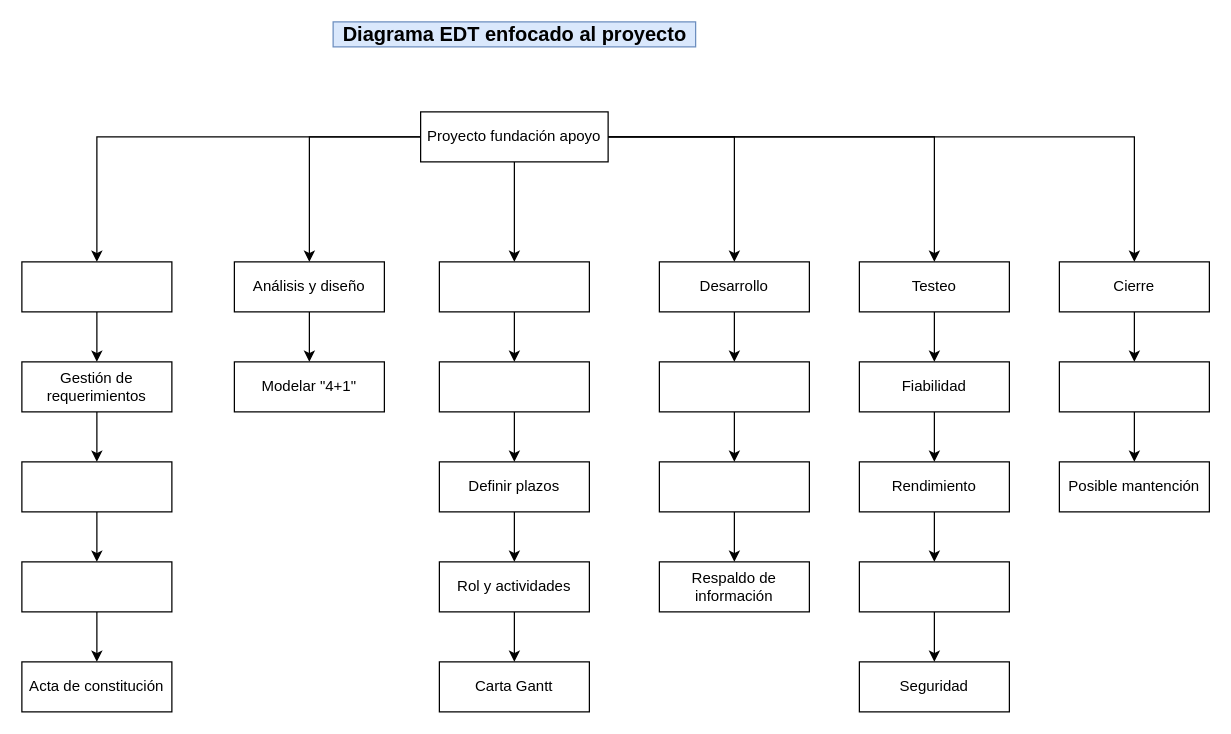
The diagram is 1231 pixels wide and 734 high, and some of its shapes have lost their labels. Here are the shapes that lost their labels. From the top down, the centre of each, then its label:
At [96,286]: "Inicial".
At [513,286]: "Planificación".
At [513,386]: "Definir recursos".
At [733,386]: "Interfaz".
At [1133,386]: "Entrega del software".
At [96,486]: "Planilla ERS".
At [733,486]: "Programar el código".
At [96,586]: "Kick Off".
At [933,586]: "Eficacia".
